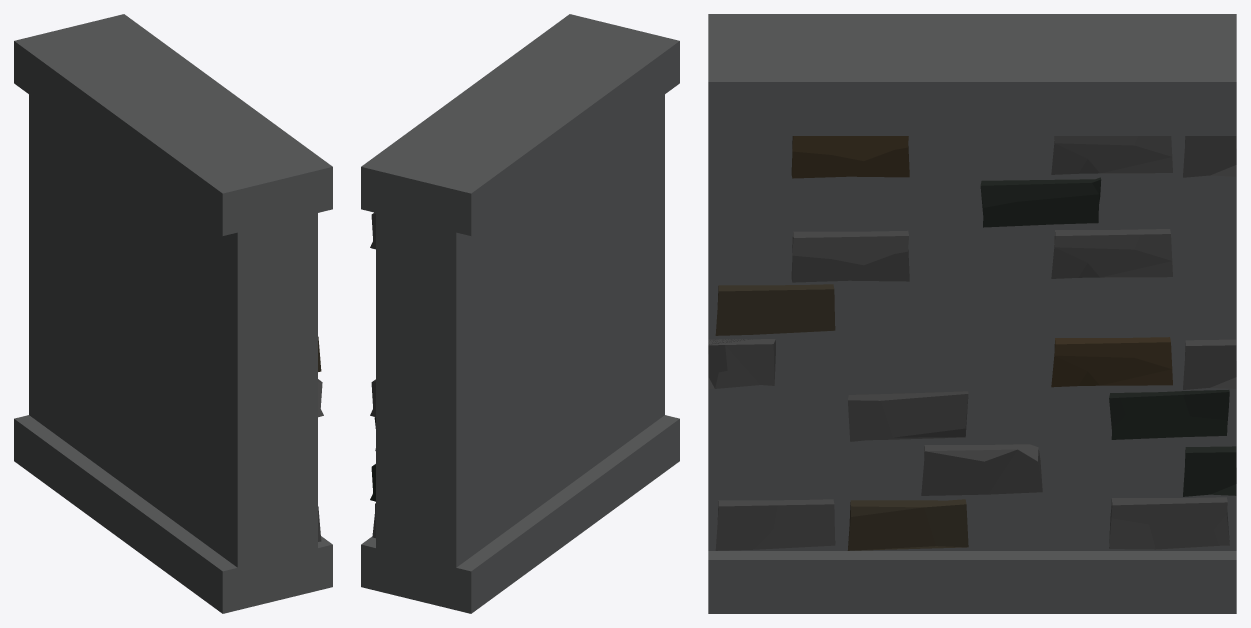
Rendered from Wall6.fbx.
3 renders of one model, left to right at view 1: azimuth 30°, elevation 25°; view 2: azimuth 150°, elevation 25°; view 3: azimuth 270°, elevation 25°, orthographic. The views are drawn at different scales.
Visible parts, largest first — view 1: Cube.160; view 2: Cube.160; view 3: Cube.160.
Boxes of the visible parts, x1,y1,x2,y2 form: Cube.160: (14, 14, 332, 613); Cube.160: (361, 14, 679, 613); Cube.160: (708, 14, 1236, 613).
Bounding box in the file's own units: 137 × 500 × 450.
